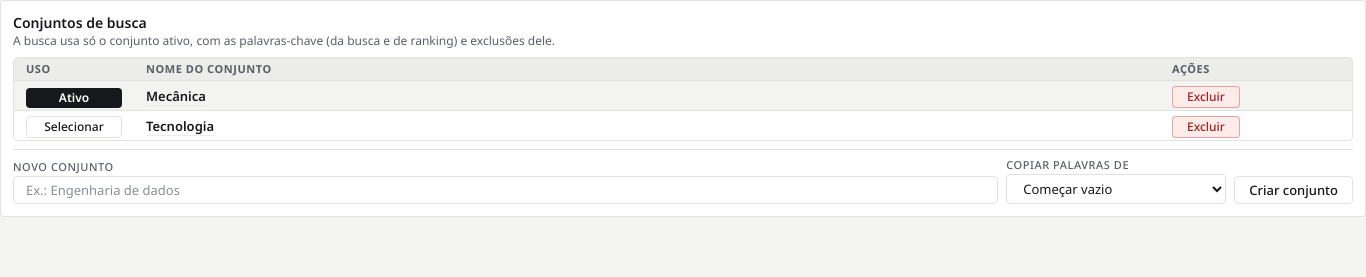
Scenario: ConjuntosPanel › nome recusado pelo servidor aparece no aviso e mantém a edição aberta
This screenshot has width=1366, height=277.
Click the button with aria-label "Editar Mecânica" at (176, 96), box [146,86,206,104]
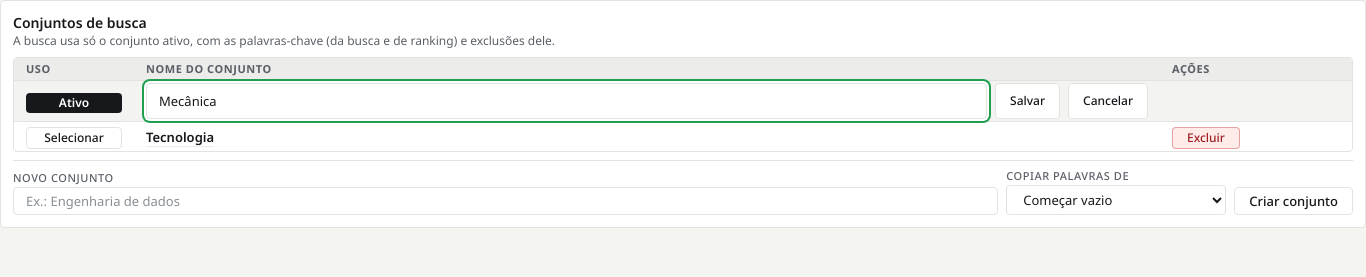
Replace the text in the field named "Nome do conjunto Mecânica" with "Tecnologia" at (567, 101), box [146,83,987,119]
Then press Enter
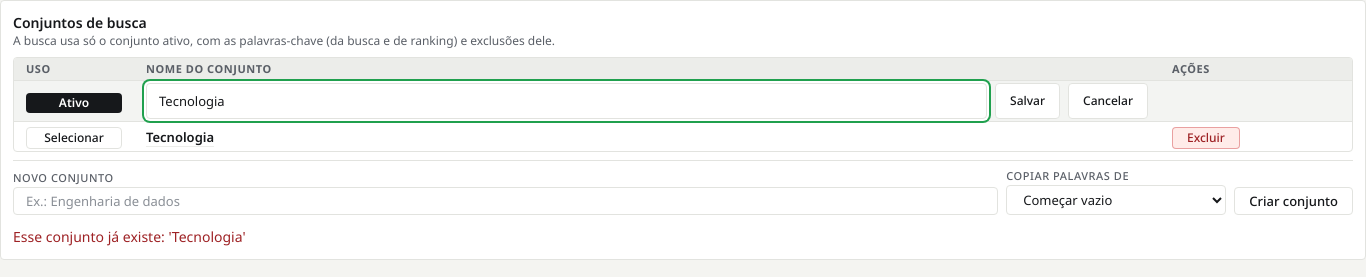
Result: the message shows "Esse conjunto já existe" at [13,227,246,246]
